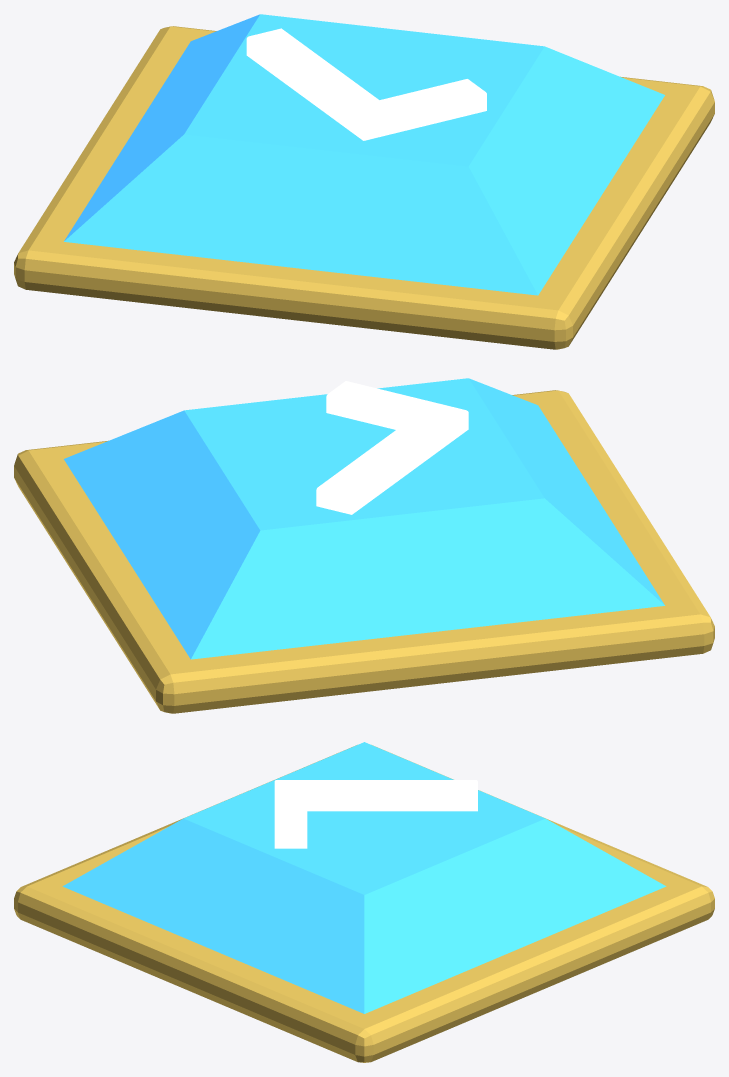
Rendered from SM_Pickup_Laser.fbx.
3 renders of one model, top to bottom at view 1: azimuth 30°, elevation 25°; view 2: azimuth 150°, elevation 25°; view 3: azimuth 270°, elevation 25°, orthographic. The views are drawn at different scales.
Visible parts, largest first — view 1: SM_Pickup_Laser; view 2: SM_Pickup_Laser; view 3: SM_Pickup_Laser.
Part boxes in pixels (left/top/right/bottom): SM_Pickup_Laser: left=14, top=14, right=714, bottom=349; SM_Pickup_Laser: left=14, top=378, right=714, bottom=713; SM_Pickup_Laser: left=14, top=742, right=714, bottom=1062.
Bounding box in the file's own units: 1.12 × 0.261 × 1.12.
